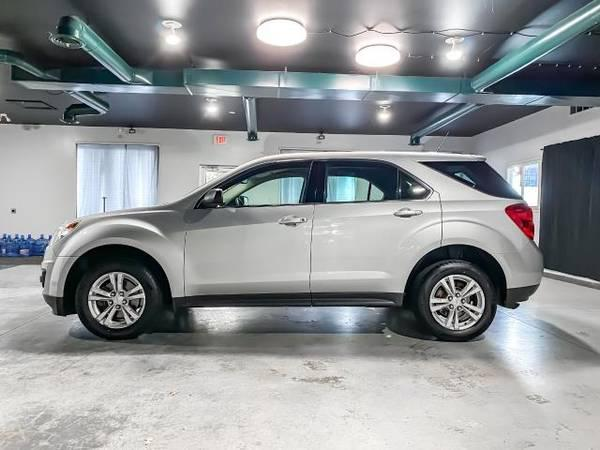Front_Bumper: (40, 244, 76, 317)
Front_Fender: (50, 209, 191, 309)
Front_Left_Door: (186, 201, 316, 303)
Front_Left_Window: (193, 158, 321, 204)
Left_Headlight: (49, 218, 77, 246)
Left_Taillight: (510, 202, 538, 244)
Rear_Bumper: (493, 240, 543, 307)
Rear_Fender: (427, 161, 534, 252)
Rear_Left_Door: (308, 193, 441, 306)
Rear_Left_Window: (315, 159, 433, 205)
Roof: (183, 148, 503, 210)
Wheel: (73, 255, 161, 338), (415, 259, 497, 340)
